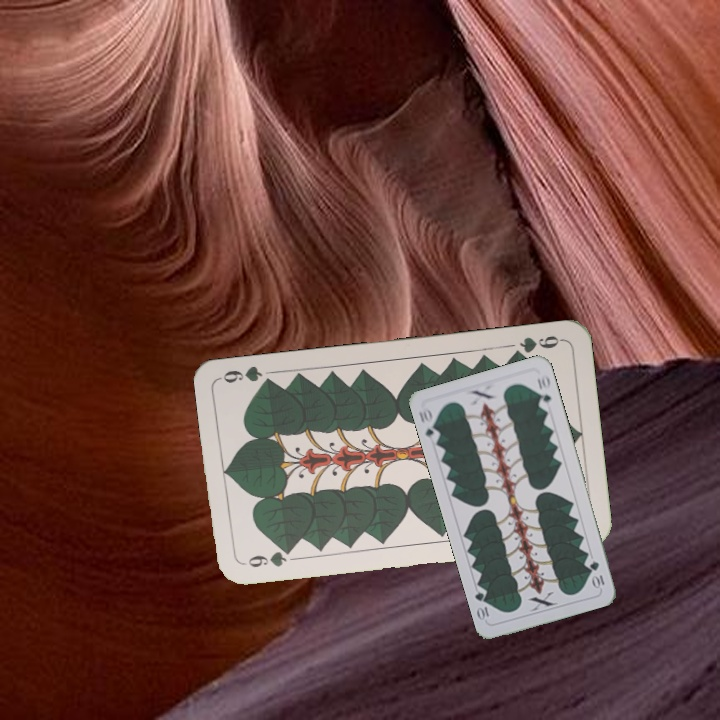G10: (415, 404, 442, 444), (586, 557, 607, 591)
G9: (507, 331, 565, 360), (244, 544, 296, 570)
